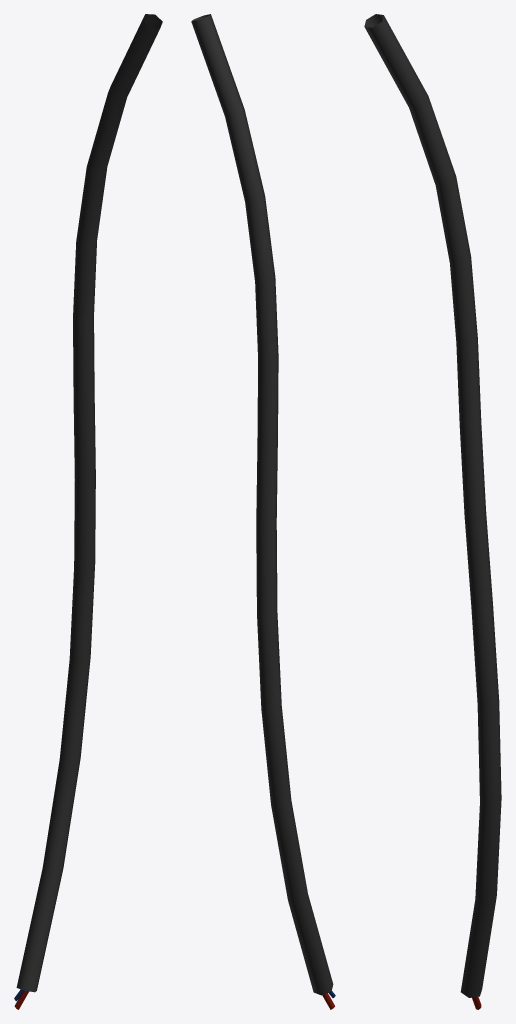
File: SM_Stage_Final_Wire_ceiling_01.fbx
The picture shows the model from 3 angles, left to right: view 1: azimuth 30°, elevation 25°; view 2: azimuth 210°, elevation 25°; view 3: azimuth 270°, elevation 25°; orthographic projection. The views are drawn at different scales.
Visible parts, largest first — view 1: SM_Stage_Final_Wire_ceiling_01; view 2: SM_Stage_Final_Wire_ceiling_01; view 3: SM_Stage_Final_Wire_ceiling_01.
Part boxes in pixels (box(x1,y1,x2,y2)): SM_Stage_Final_Wire_ceiling_01: box(14, 14, 162, 1009); SM_Stage_Final_Wire_ceiling_01: box(191, 14, 335, 1009); SM_Stage_Final_Wire_ceiling_01: box(364, 14, 501, 1009).
Bounding box in the file's own units: 19.14 × 188 × 22.54.
1 material, 1 textured.
